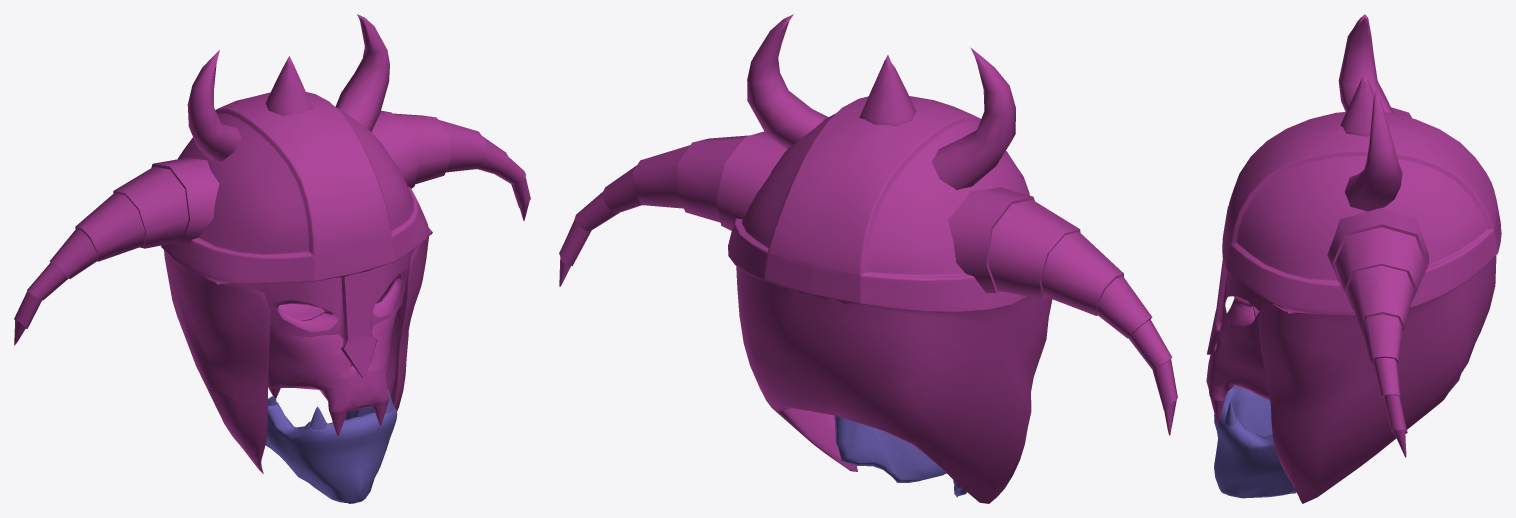
Rendered from enemy_2.fbx.
3 renders of one model, left to right at view 1: azimuth 30°, elevation 25°; view 2: azimuth 150°, elevation 25°; view 3: azimuth 270°, elevation 25°, orthographic. The views are drawn at different scales.
Visible parts, largest first — view 1: enemy_0022:enemy_2_top, enemy_0022:enemy_2_jaw; view 2: enemy_0022:enemy_2_top, enemy_0022:enemy_2_jaw; view 3: enemy_0022:enemy_2_top, enemy_0022:enemy_2_jaw.
Boxes of the visible parts, bbox=[...] form: enemy_0022:enemy_2_top: bbox=[14, 14, 530, 473]; enemy_0022:enemy_2_jaw: bbox=[265, 364, 397, 503]; enemy_0022:enemy_2_top: bbox=[559, 14, 1177, 503]; enemy_0022:enemy_2_jaw: bbox=[834, 415, 966, 497]; enemy_0022:enemy_2_top: bbox=[1206, 14, 1501, 503]; enemy_0022:enemy_2_jaw: bbox=[1214, 385, 1296, 498].
Size of the model in its own units: 209 by 164 by 98.97.
